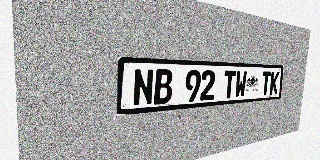2: (200, 70, 215, 101)
9: (185, 70, 201, 102)
B: (154, 69, 173, 105)
K: (269, 72, 279, 95)
N: (133, 69, 154, 106)
T: (223, 71, 236, 99), (260, 71, 271, 96)
W: (234, 71, 247, 98)
